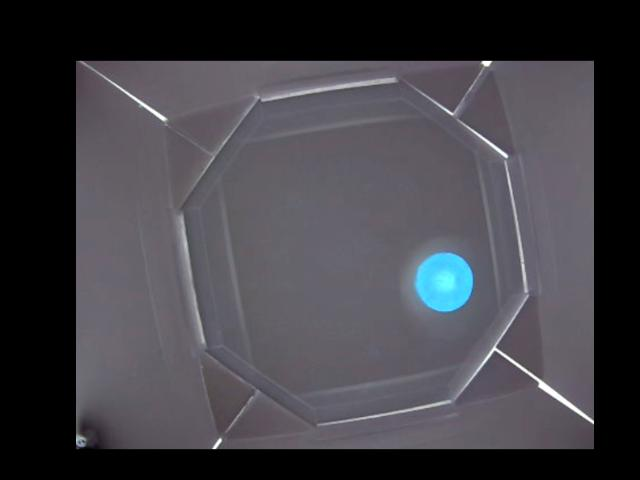Carrot: (415, 253, 473, 311)
